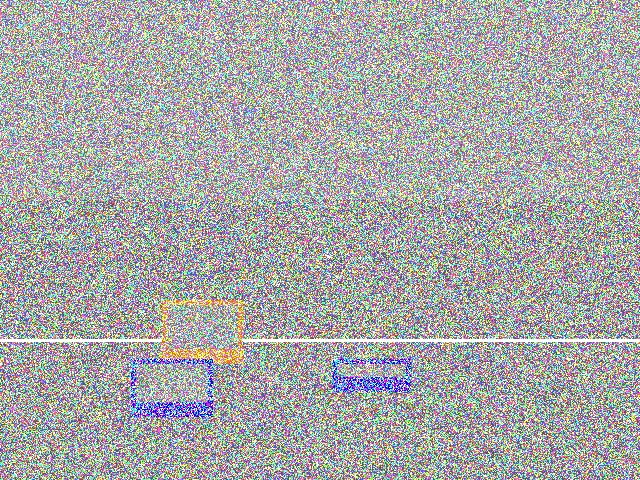car: (141, 210, 245, 326)
truck: (300, 396, 481, 451), (239, 254, 386, 317)
